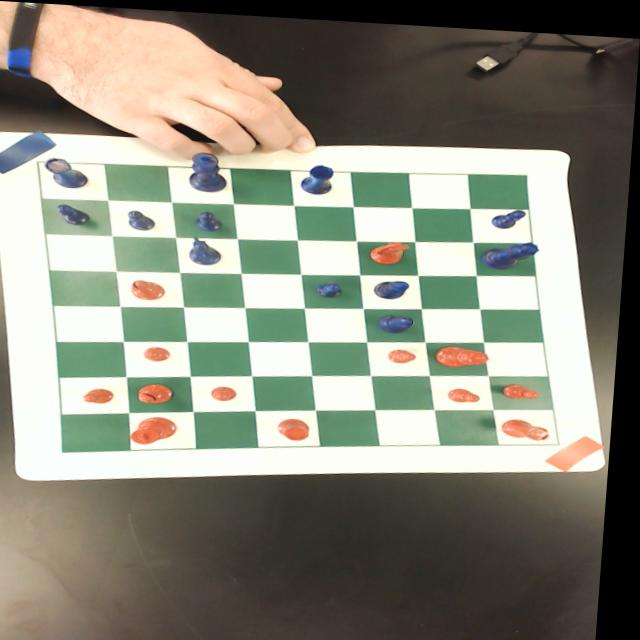B: (378, 273, 415, 295), (384, 308, 419, 328)
K: (189, 148, 232, 190)
N: (191, 233, 226, 262)
P: (56, 202, 95, 224), (494, 201, 530, 223), (130, 207, 161, 229), (198, 207, 227, 228), (319, 277, 348, 294)
Q: (485, 232, 544, 264)
R: (46, 155, 94, 187), (302, 159, 338, 190)
b: (144, 380, 181, 402), (134, 277, 171, 298)
cb: (40, 160, 566, 450)
k: (137, 413, 185, 443)
n: (372, 234, 415, 260)
p: (506, 376, 547, 392), (89, 385, 122, 402), (453, 381, 487, 396), (392, 342, 423, 358), (149, 343, 178, 359), (216, 382, 245, 397)
q: (439, 338, 496, 362)
r: (505, 409, 560, 434), (282, 413, 318, 436)
